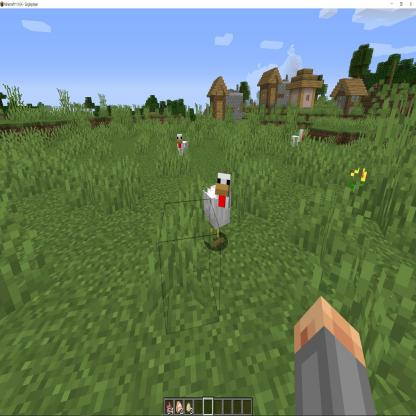minecraft-pigs: (202, 169, 232, 252), (173, 131, 192, 162), (289, 127, 305, 155)
